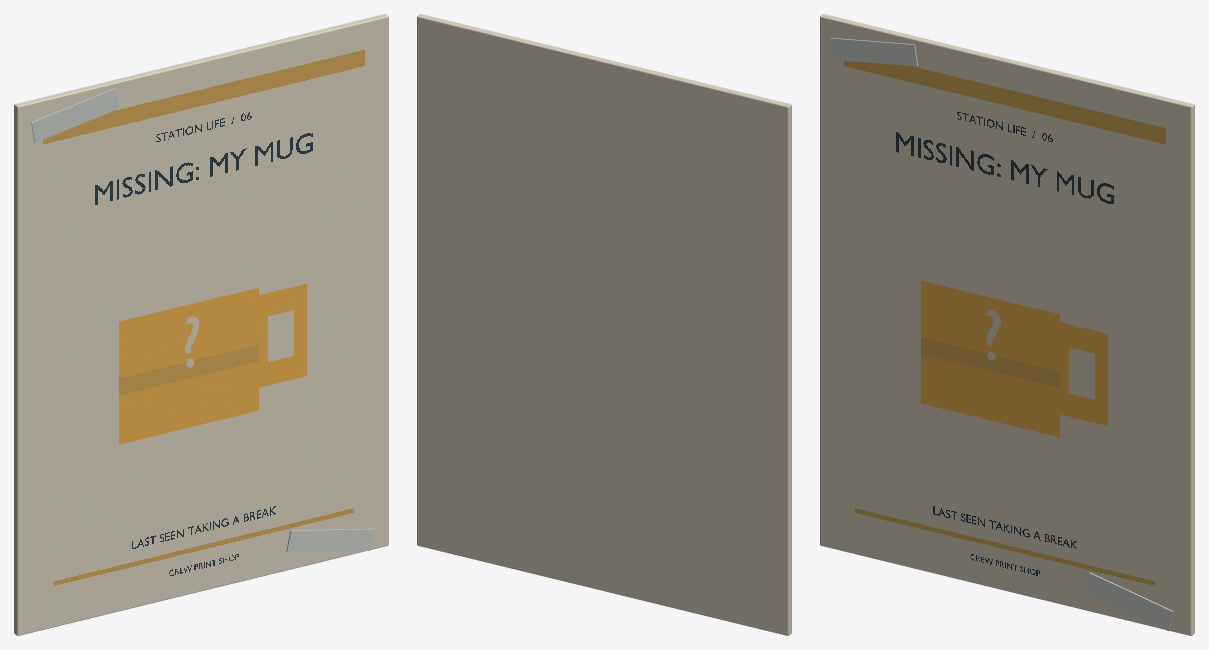
The model's file is lbd_poster_mug.glb.
3 renders of one model, left to right at view 1: azimuth 30°, elevation 25°; view 2: azimuth 150°, elevation 25°; view 3: azimuth 330°, elevation 25°, orthographic.
Visible parts, largest first — view 1: poster_mug__poster_mug_004, poster_mug__backing_003, poster_mug__paper tape_007, poster_mug__paper tape_010; view 2: poster_mug__backing_003; view 3: poster_mug__poster_mug_004, poster_mug__backing_003, poster_mug__paper tape_010, poster_mug__paper tape_007.
Part boxes in pixels (<box>): poster_mug__poster_mug_004: <box>24,25,382,627</box>; poster_mug__backing_003: <box>14,14,388,635</box>; poster_mug__paper tape_007: <box>31,88,118,142</box>; poster_mug__paper tape_010: <box>286,528,374,552</box>; poster_mug__backing_003: <box>417,14,791,635</box>; poster_mug__poster_mug_004: <box>826,25,1184,627</box>; poster_mug__backing_003: <box>820,14,1194,635</box>; poster_mug__paper tape_010: <box>1085,572,1173,631</box>; poster_mug__paper tape_007: <box>830,37,917,66</box>.
Bounding box in the file's own units: 0.83 × 1.13 × 0.0225.
3 materials, 1 textured.
